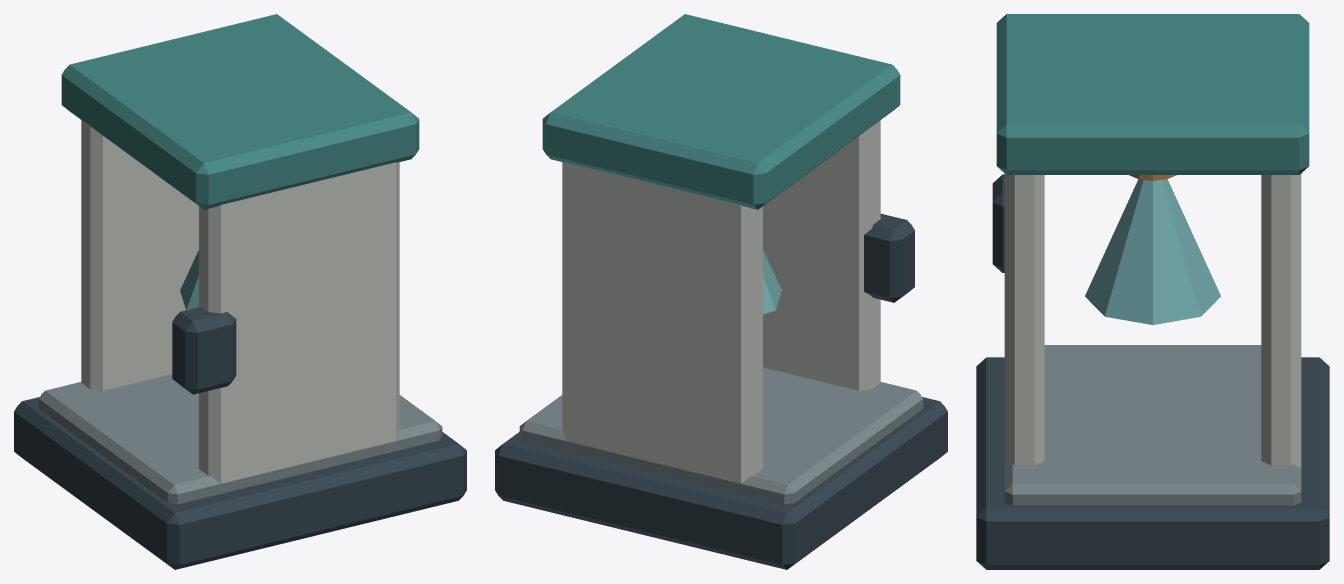
File: phw_paint_booth.glb
3 renders of one model, left to right at view 1: azimuth 30°, elevation 25°; view 2: azimuth 150°, elevation 25°; view 3: azimuth 270°, elevation 25°, orthographic. The views are drawn at different scales.
Visible parts, largest first — view 1: body, spray; view 2: body, spray; view 3: body, spray.
Boxes of the visible parts, x1,y1,x2,y2 form: body: [14, 14, 466, 569]; spray: [180, 250, 198, 310]; body: [495, 14, 947, 569]; spray: [763, 250, 781, 314]; body: [976, 14, 1329, 569]; spray: [1085, 179, 1220, 324].
Bounding box in the file's own units: 0.94 × 1.17 × 0.88.
